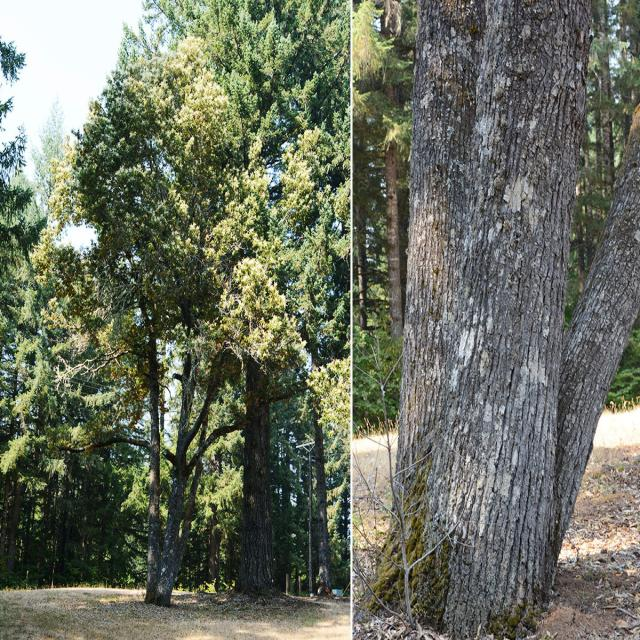Chrysolepis chrysophylla: (388, 1, 640, 632), (28, 36, 290, 600)
